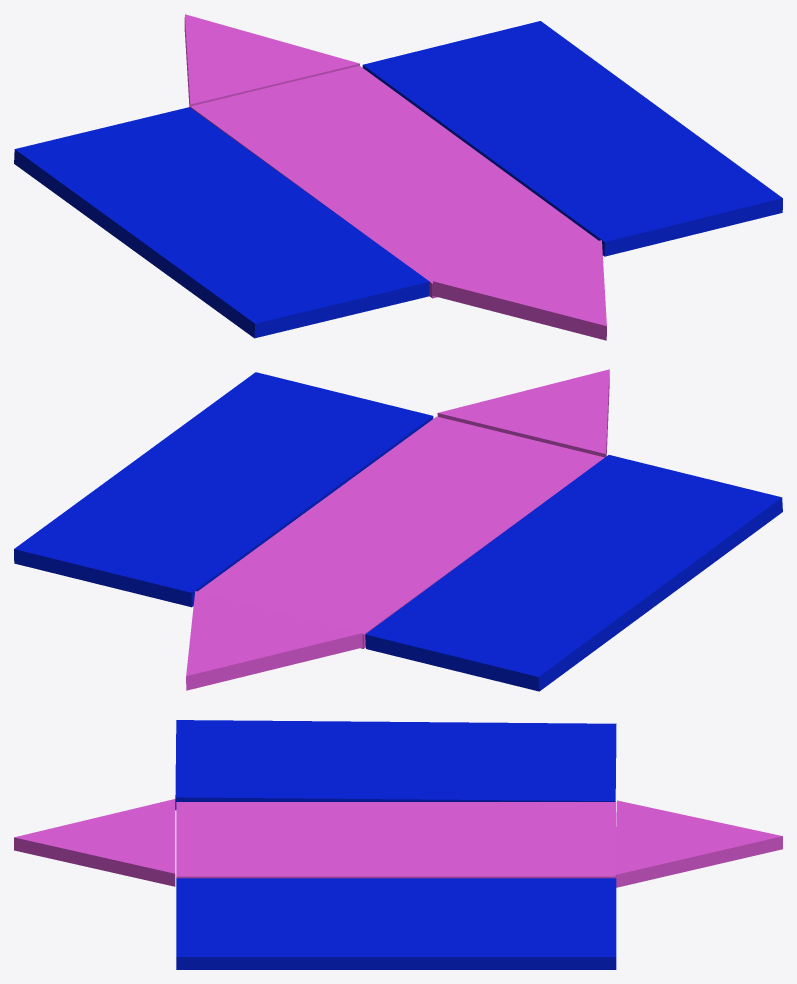
File: Prisma_terbaru.glb
3 views of the same model, one above another, from view 1: azimuth 30°, elevation 25°; view 2: azimuth 150°, elevation 25°; view 3: azimuth 270°, elevation 25° (orthographic). The views are drawn at different scales.
Visible parts, largest first — view 1: Belakang, Depan, Cube, Kiri, Kanan; view 2: Belakang, Depan, Cube, Kanan, Kiri; view 3: Depan, Belakang, Cube, Kanan, Kiri.
Boxes of the visible parts, bbox=[...] form: Belakang: bbox=[14, 107, 429, 338]; Depan: bbox=[362, 21, 782, 256]; Cube: bbox=[190, 66, 598, 298]; Kiri: bbox=[432, 240, 606, 340]; Kanan: bbox=[184, 14, 359, 107]; Belakang: bbox=[365, 455, 782, 691]; Depan: bbox=[14, 372, 433, 607]; Cube: bbox=[198, 416, 604, 648]; Kanan: bbox=[186, 591, 362, 690]; Kiri: bbox=[437, 369, 609, 457]; Depan: bbox=[176, 878, 616, 969]; Belakang: bbox=[175, 720, 616, 810]; Cube: bbox=[176, 802, 616, 878]; Kanan: bbox=[615, 800, 782, 887]; Kiri: bbox=[14, 799, 175, 886].
Size of the model in its own units: 6.26 by 0.215 by 8.68.
